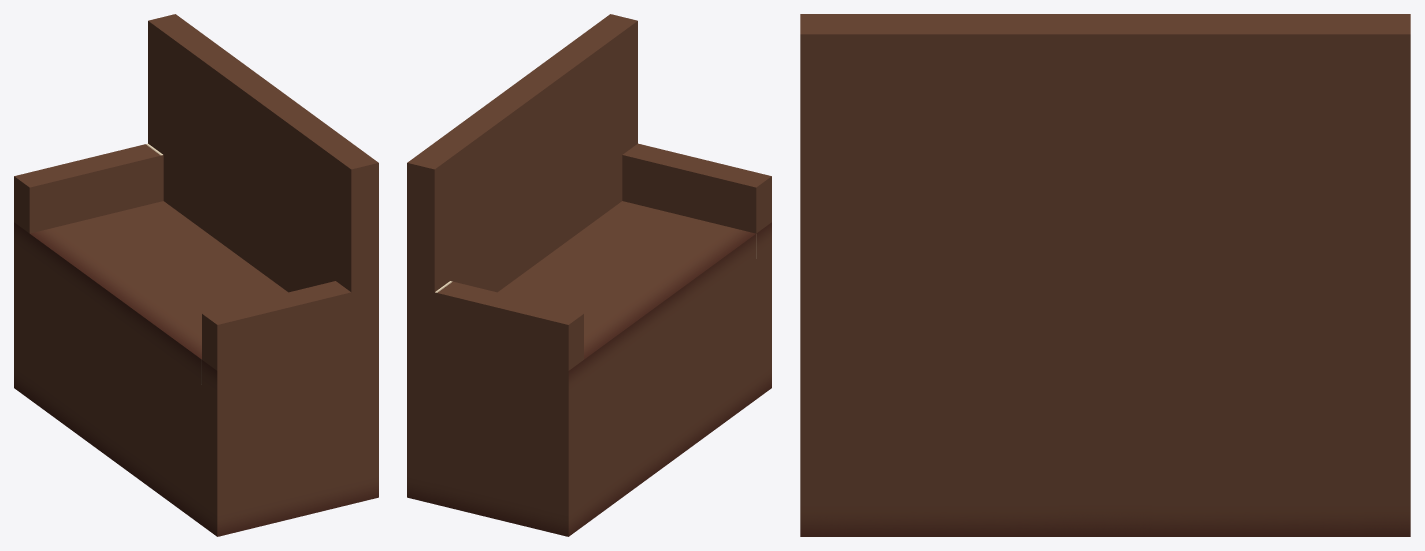
File: Banc.fbx
3 renders of one model, left to right at view 1: azimuth 30°, elevation 25°; view 2: azimuth 150°, elevation 25°; view 3: azimuth 270°, elevation 25°, orthographic. The views are drawn at different scales.
Parts seen in each view (by area): view 1: Banc; view 2: Banc; view 3: Banc.
Part boxes in pixels (left/top/right/bottom): Banc: left=14, top=14, right=378, bottom=536; Banc: left=407, top=14, right=771, bottom=536; Banc: left=800, top=14, right=1410, bottom=536.
Size of the model in its own units: 0.55 by 1.09 by 1.2.
